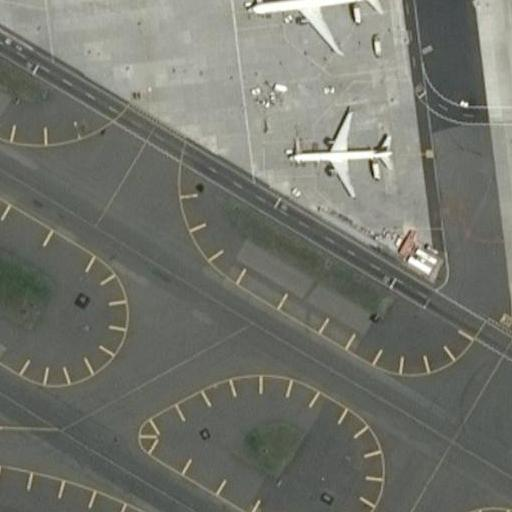Aircraft: (286, 103, 397, 197), (244, 0, 383, 56)
